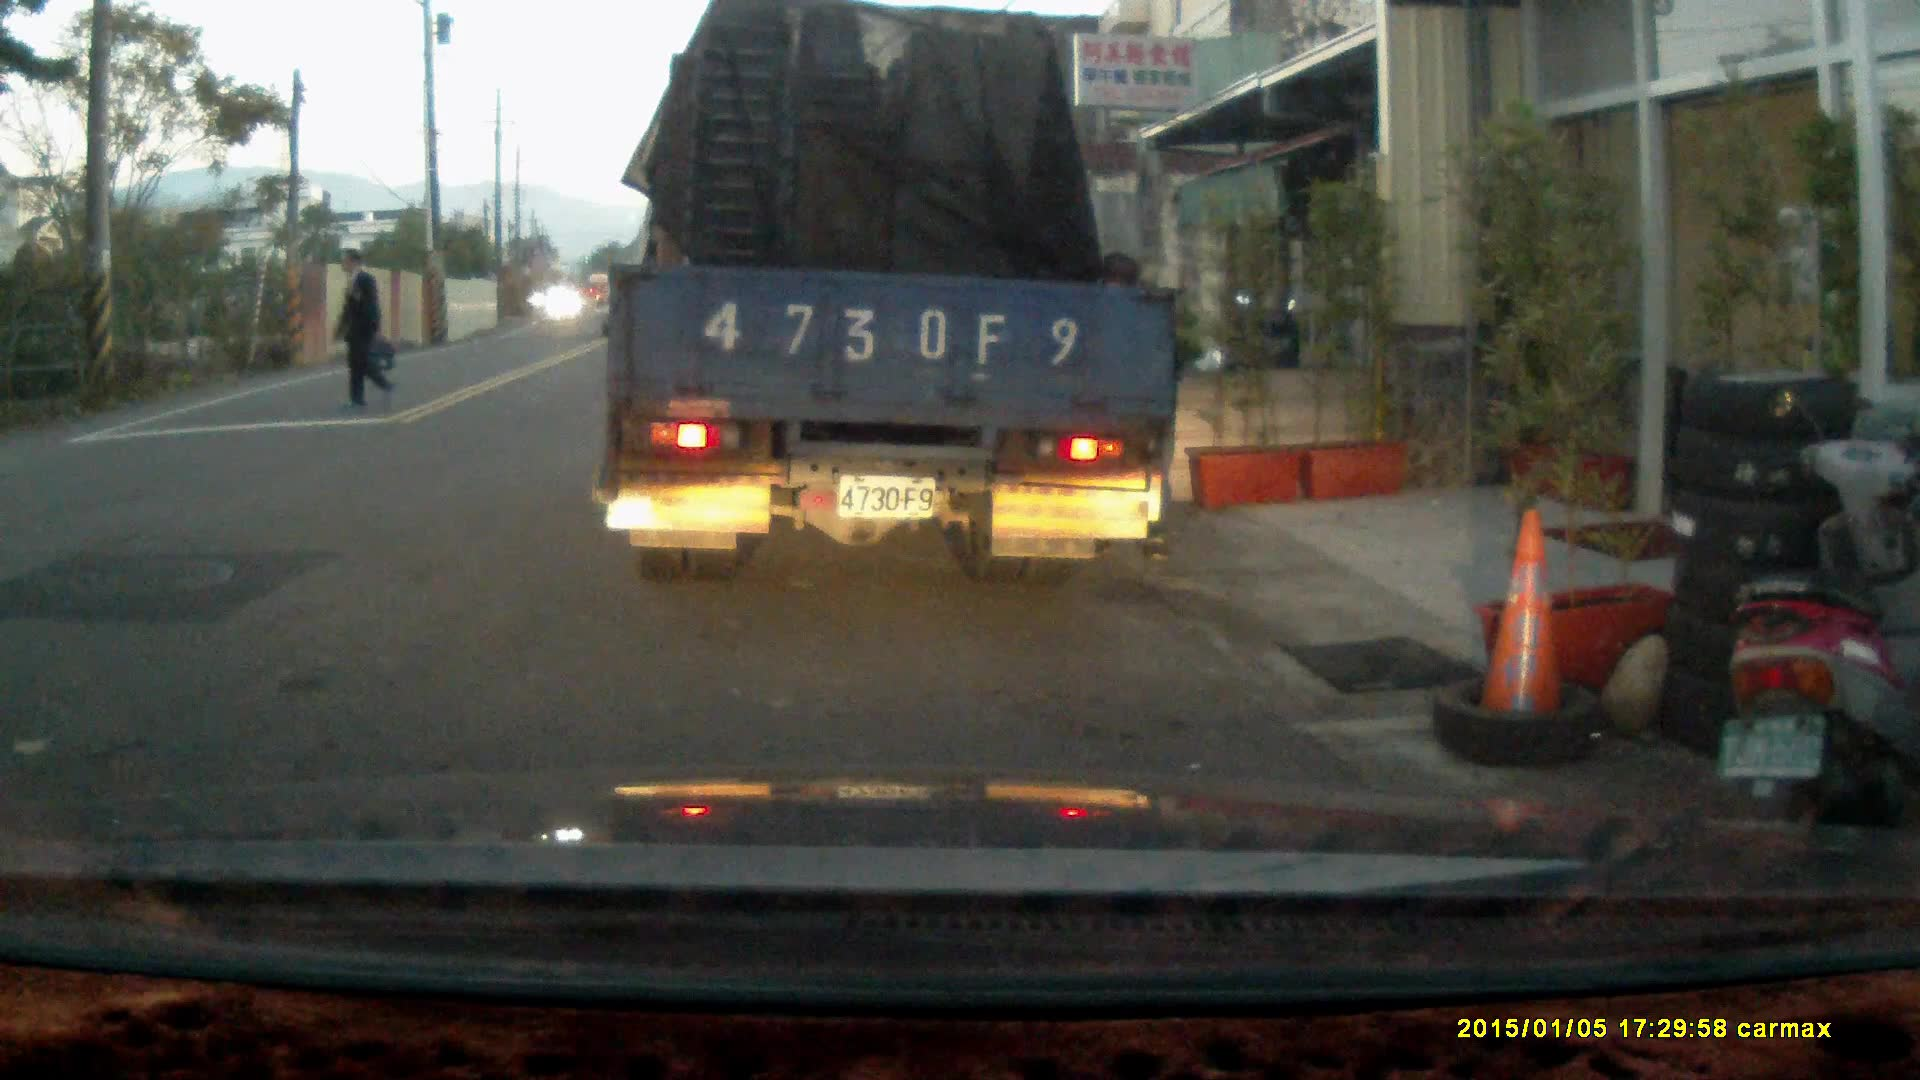pedestrian: (324, 248, 401, 418)
vehicle: (604, 23, 1188, 572)
